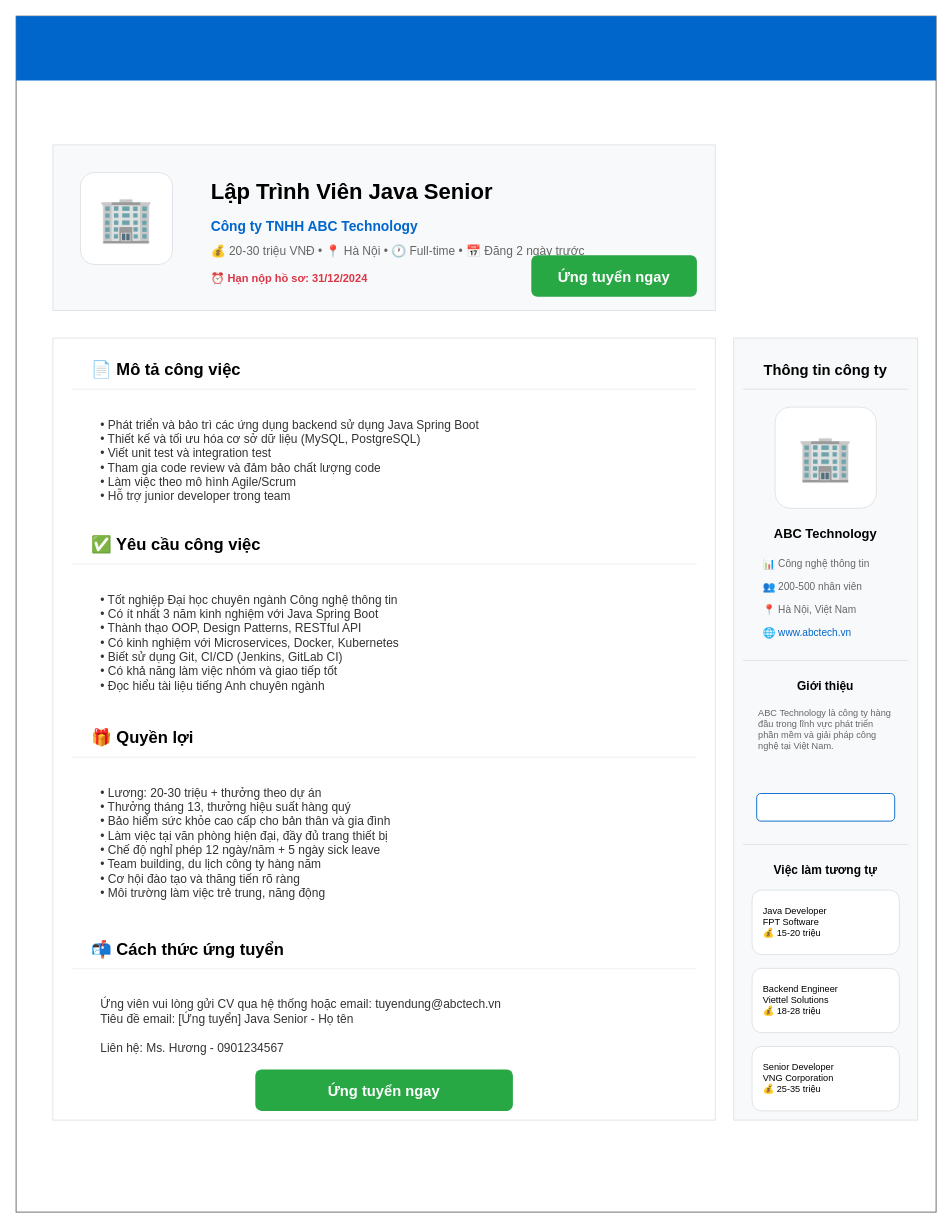
Some shapes in this 952 by 1228 pixel diagram are drawn without their labels. Here are the shapes that lost their labels. From the top down, the centre of each, then its label:
At pixel 476 48: "💼 JobPortal".
At pixel 825 807: "Xem trang công ty →".
